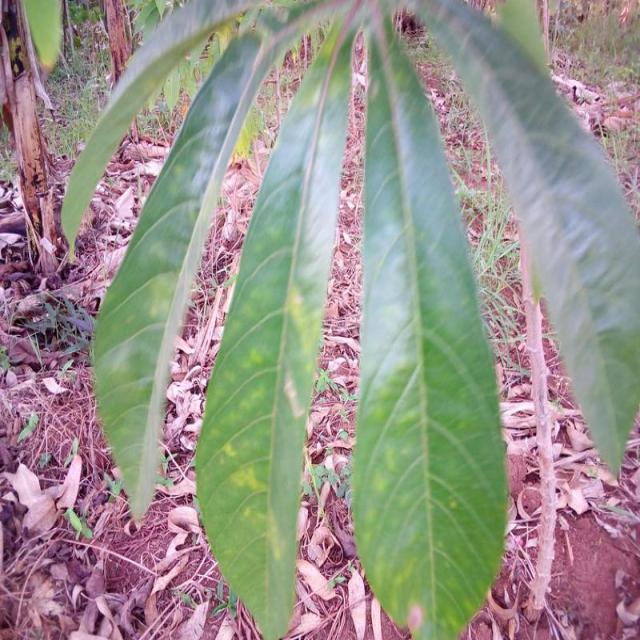cassava leaf: (60, 0, 639, 638), (194, 1, 364, 638), (415, 0, 640, 481), (350, 8, 510, 638), (89, 17, 271, 522)
